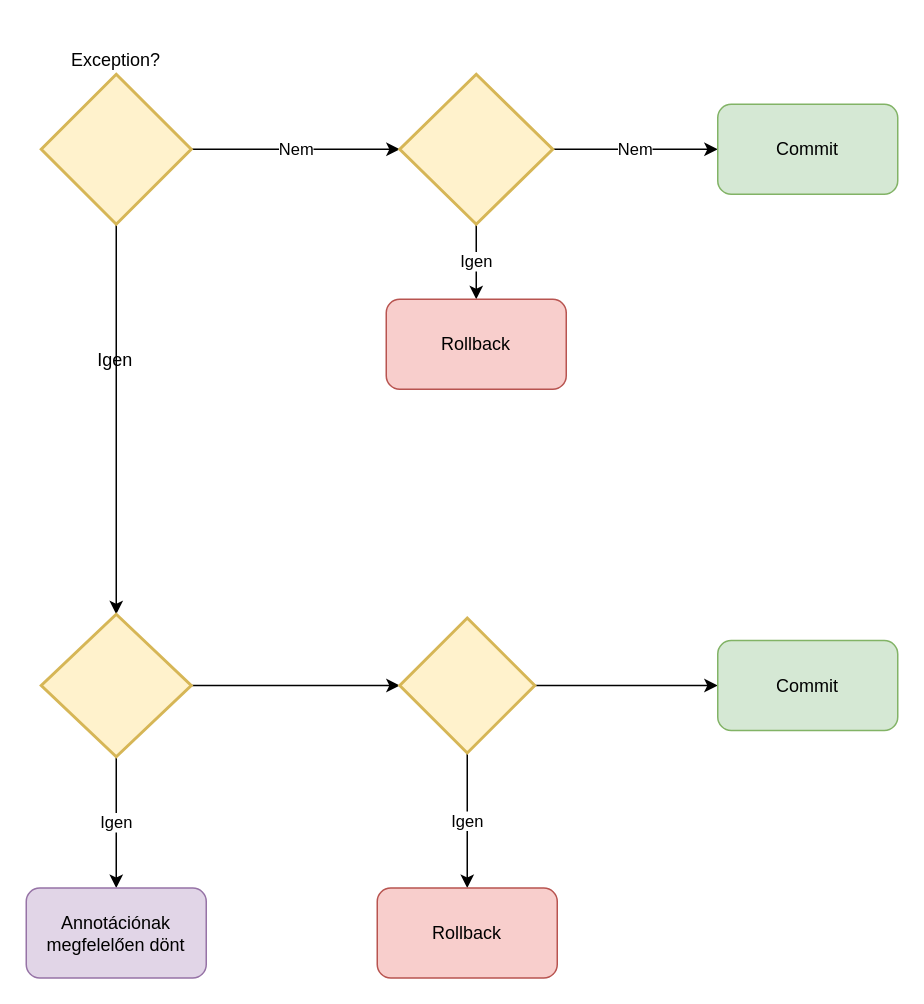
Some shapes in this 924 by 1004 pixel diagram are drawn without their labels. Here are the shapes that lost their labels. From the top down, the box of each, then its label:
(398, 72, 554, 225): setRollbackOnly(true) volt?
(39, 612, 192, 758): Van rajta ApplicationException annotáció?
(398, 616, 536, 754): System exception? (RuntimeException vagy RemoteException leszármazott?
